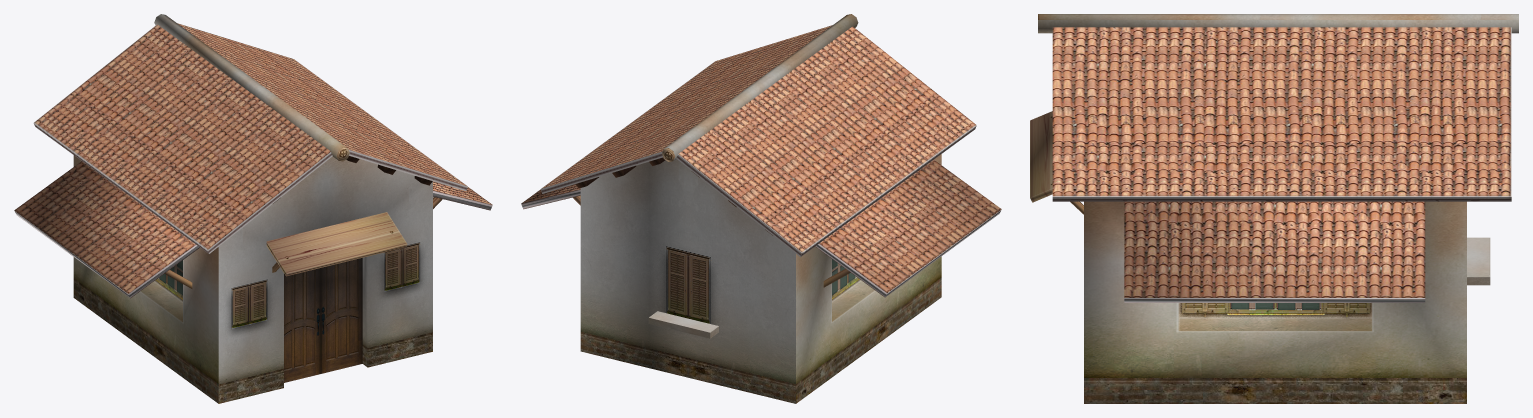
The model's file is FFP_House_03.fbx.
The picture shows the model from 3 angles, left to right: view 1: azimuth 30°, elevation 25°; view 2: azimuth 150°, elevation 25°; view 3: azimuth 270°, elevation 25°; orthographic projection. The views are drawn at different scales.
Parts seen in each view (by area): view 1: polySurface257; view 2: polySurface257; view 3: polySurface257.
Boxes of the visible parts, box(x1,y1,x2,y2) form: polySurface257: box(14, 14, 492, 403); polySurface257: box(521, 14, 1001, 403); polySurface257: box(1030, 14, 1518, 403).
Size of the model in its own units: 19.77 by 12.6 by 17.4.
